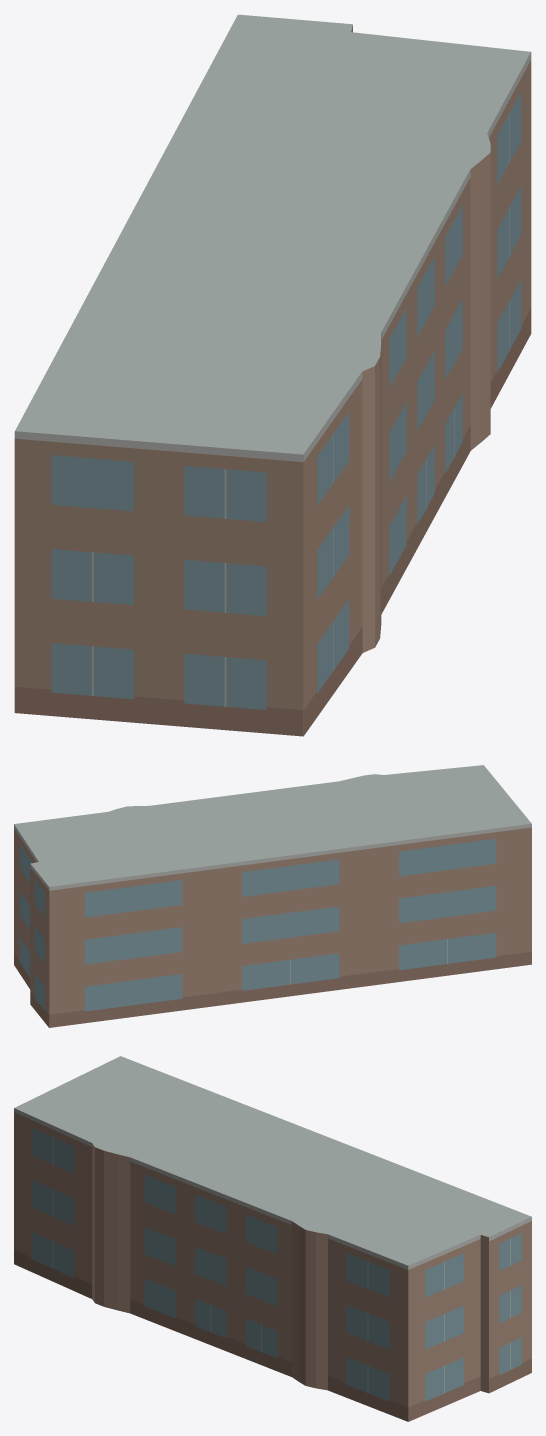
Rendered from survey-upis-32568051.glb.
3 views of the same model, one above another, from view 1: azimuth 30°, elevation 25°; view 2: azimuth 150°, elevation 25°; view 3: azimuth 270°, elevation 25° (orthographic). The views are drawn at different scales.
Parts seen in each view (by area): view 1: survey-upis-32568051.tmp; view 2: survey-upis-32568051.tmp; view 3: survey-upis-32568051.tmp.
Boxes of the visible parts, bbox=[...] form: survey-upis-32568051.tmp: bbox=[14, 14, 531, 736]; survey-upis-32568051.tmp: bbox=[14, 765, 531, 1027]; survey-upis-32568051.tmp: bbox=[14, 1056, 531, 1421].
Size of the model in its own units: 26.38 by 9.15 by 27.52.
